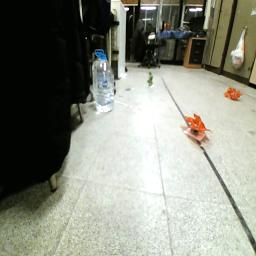herb: (147, 71, 155, 89)
wild: (184, 114, 213, 138), (225, 85, 244, 103)
